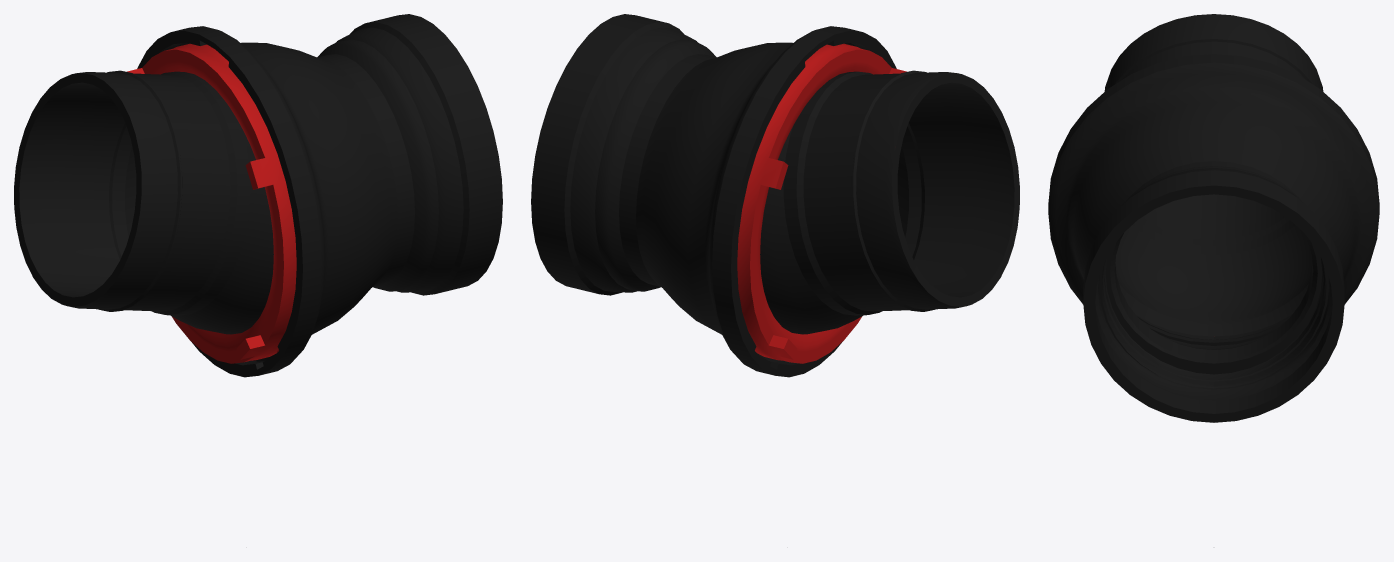
The model's file is USPipe_Ensamble.gltf.
3 renders of one model, left to right at view 1: azimuth 30°, elevation 25°; view 2: azimuth 150°, elevation 25°; view 3: azimuth 270°, elevation 25°, orthographic. The views are drawn at different scales.
Parts seen in each view (by area): view 1: H_Piece_01; view 2: H_Piece_01; view 3: H_Piece_01.
Part boxes in pixels (x1,y1,x2,y2): H_Piece_01: (14,14,502,377); H_Piece_01: (531,14,1019,377); H_Piece_01: (1048,14,1379,422).
Size of the model in its own units: 1.12 by 1.44 by 0.9005.
1 material, 1 textured.
